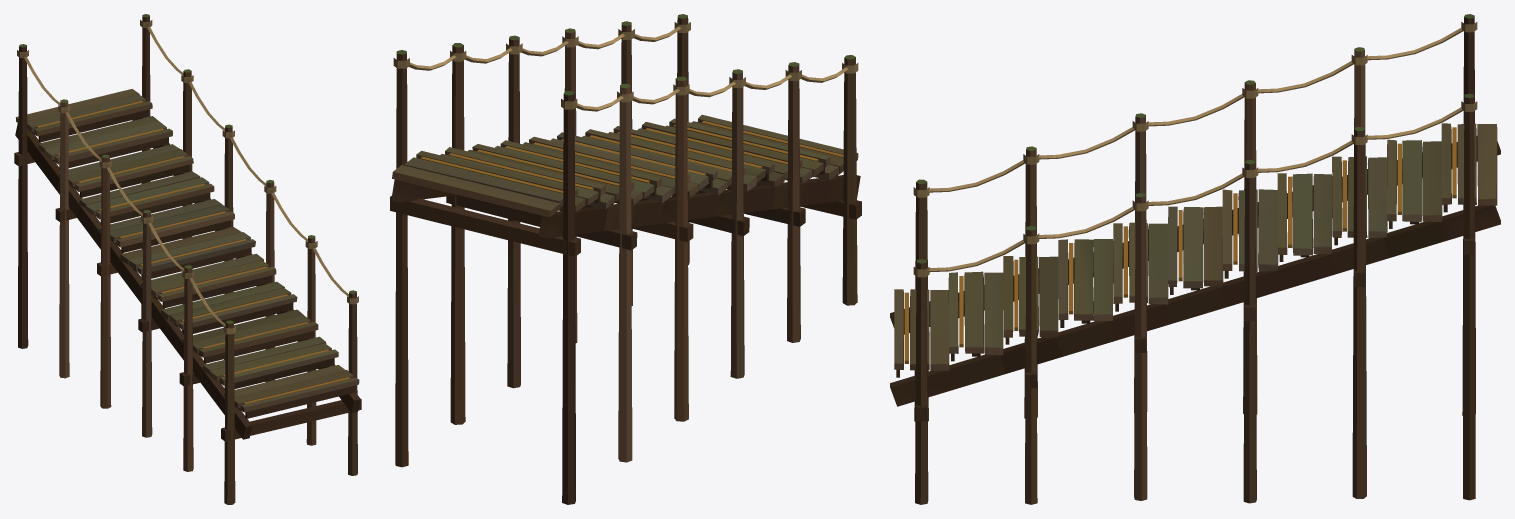
The model's file is commit-steps.glb.
The picture shows the model from 3 angles, left to right: view 1: azimuth 30°, elevation 25°; view 2: azimuth 150°, elevation 25°; view 3: azimuth 270°, elevation 25°; orthographic projection. The views are drawn at different scales.
Visible parts, largest first — view 1: step_00, step_08, step_06, step_10, step_02, step_04, step_01, step_03, step_09, step_05, step_07; view 2: step_10, step_08, step_06, step_04, step_02, step_00, step_09, step_07, step_05, step_03, step_01; view 3: step_08, step_06, step_10, step_04, step_02, step_00, step_03, step_09, step_05, step_07, step_01.
Boxes of the visible parts, box(x1,y1,x2,y2) form: step_00: box(190, 247, 361, 504); step_08: box(24, 26, 193, 378); step_06: box(65, 82, 234, 408); step_10: box(14, 14, 152, 348); step_02: box(148, 192, 318, 471); step_04: box(107, 137, 276, 437); step_01: box(202, 336, 338, 410); step_03: box(160, 281, 297, 355); step_09: box(36, 116, 172, 190); step_05: box(118, 227, 255, 300); step_07: box(77, 171, 214, 245); step_10: box(390, 50, 580, 504); step_08: box(409, 43, 637, 462); step_06: box(465, 35, 693, 421); step_04: box(521, 28, 749, 378); step_02: box(577, 21, 805, 342); step_00: box(633, 14, 861, 305); step_09: box(428, 147, 607, 234); step_07: box(495, 140, 663, 227); step_05: box(550, 132, 719, 220); step_03: box(608, 126, 775, 212); step_01: box(666, 118, 831, 205); step_08: box(1329, 28, 1463, 498); step_06: box(1220, 61, 1353, 503); step_10: box(1438, 14, 1500, 500); step_04: box(1109, 94, 1243, 500); step_02: box(1000, 127, 1134, 504); step_00: box(890, 160, 1024, 504); step_03: box(1055, 239, 1115, 356); step_09: box(1383, 139, 1444, 257); step_05: box(1164, 206, 1226, 323); step_07: box(1273, 173, 1336, 290); step_01: box(946, 271, 1006, 389).
Bounding box in the file's own units: 1.66 × 3.57 × 4.87.
